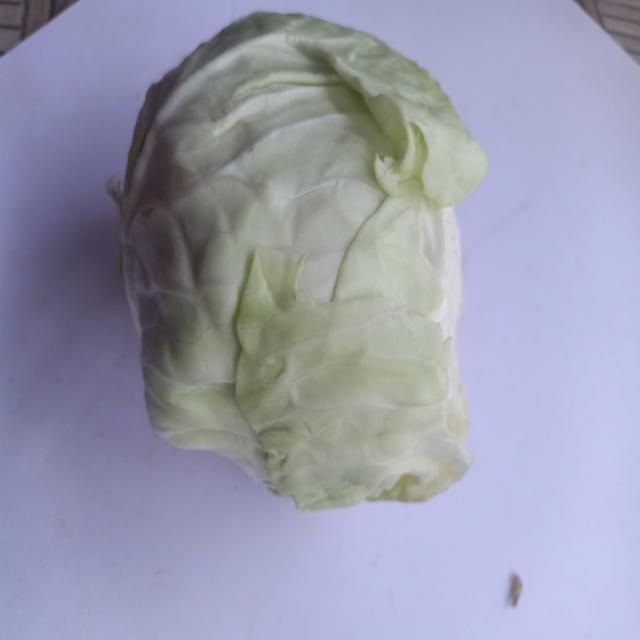Cabbage: (103, 0, 519, 518)
